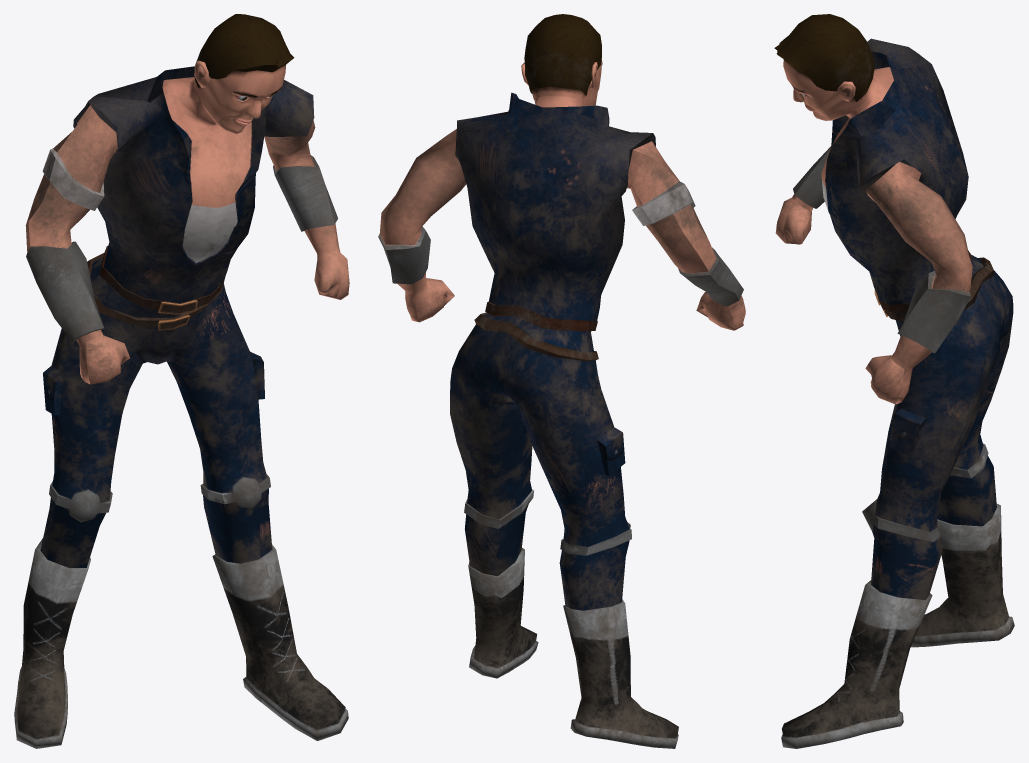
Rendered from Anim_especial_jugador.0036.obj.
3 views of the same model, side by side, from view 1: azimuth 30°, elevation 25°; view 2: azimuth 150°, elevation 25°; view 3: azimuth 270°, elevation 25° (orthographic). The views are drawn at different scales.
Parts seen in each view (by area): view 1: polySurface1; view 2: polySurface1; view 3: polySurface1.
Boxes of the visible parts, x1=… form: polySurface1: x1=14, y1=14, x2=349, y2=748; polySurface1: x1=378, y1=14, x2=745, y2=748; polySurface1: x1=774, y1=14, x2=1014, y2=748.
Size of the model in its own units: 4.54 by 9.44 by 2.95.
